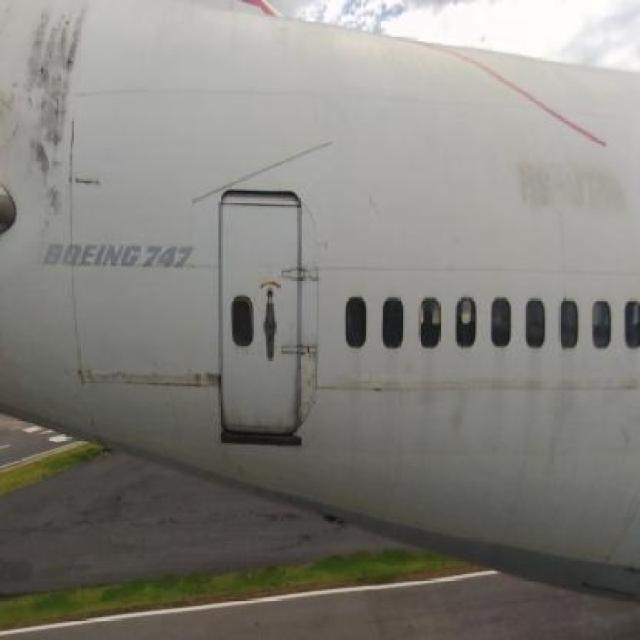Rust: (23, 7, 86, 228), (79, 357, 195, 405)
Scartch: (414, 370, 494, 464), (529, 371, 580, 483), (294, 356, 321, 430), (70, 162, 104, 193), (197, 372, 228, 398), (367, 184, 385, 219)
